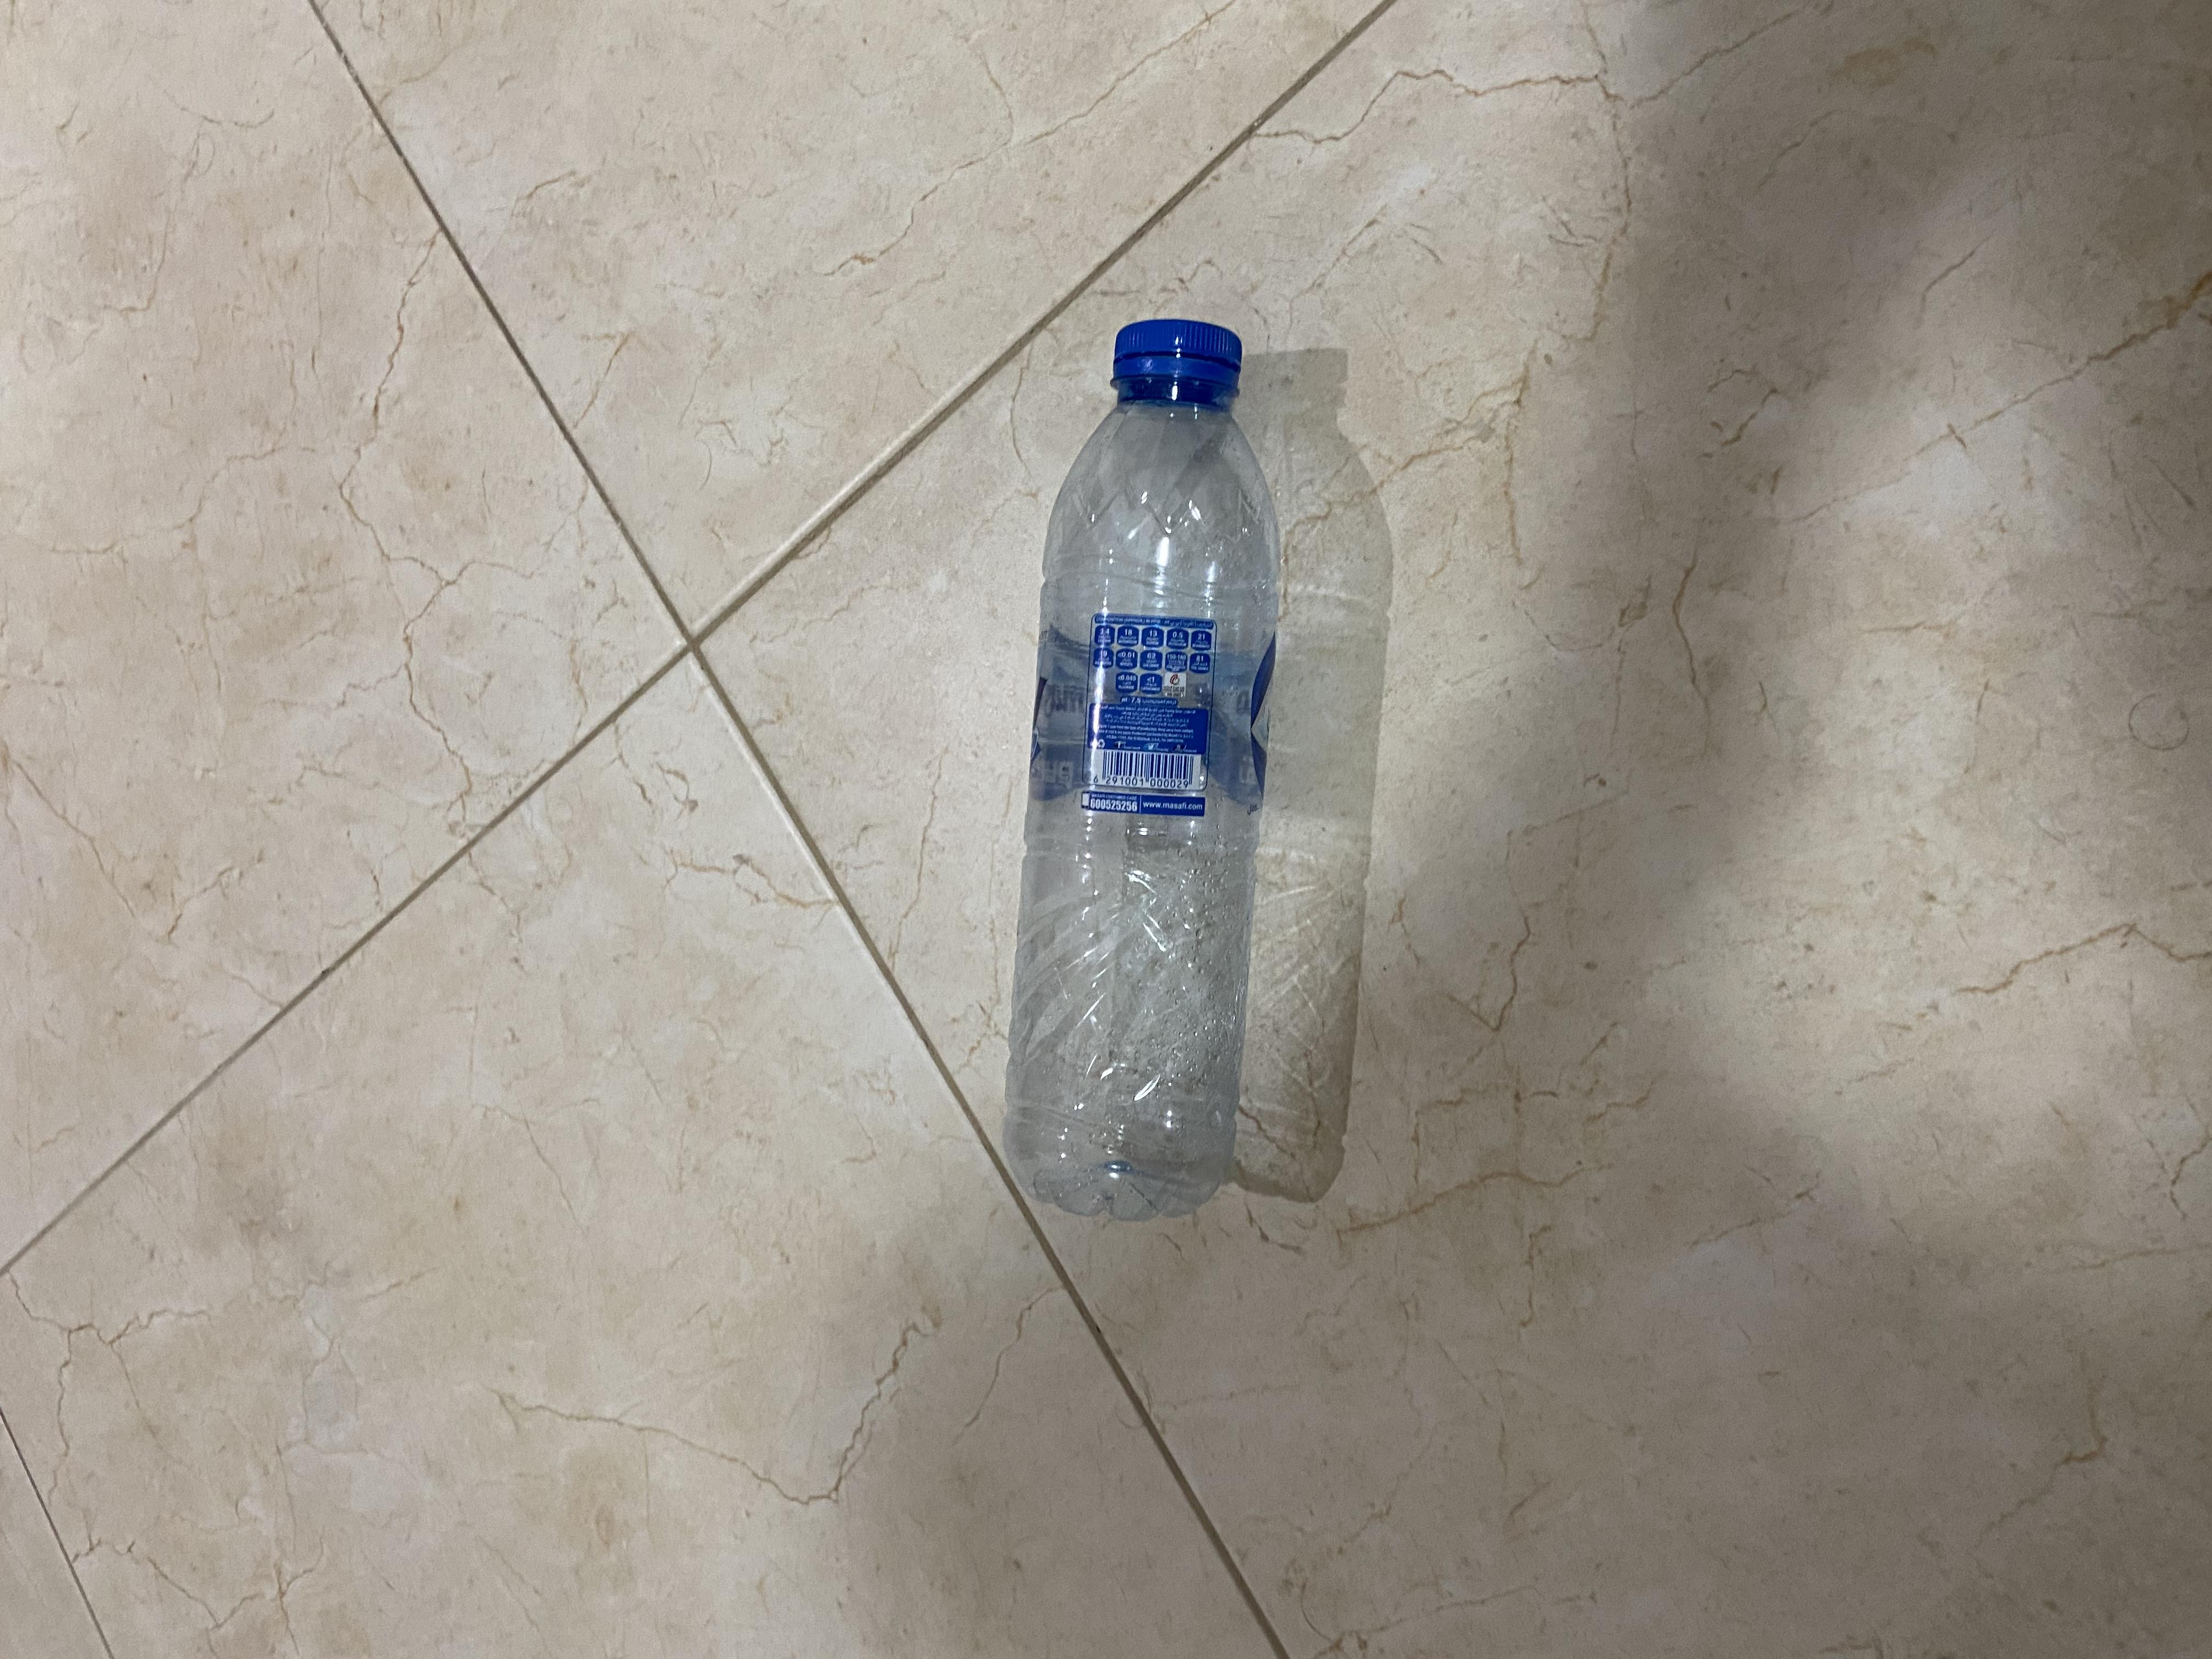bottle: (566, 746, 1817, 983)
